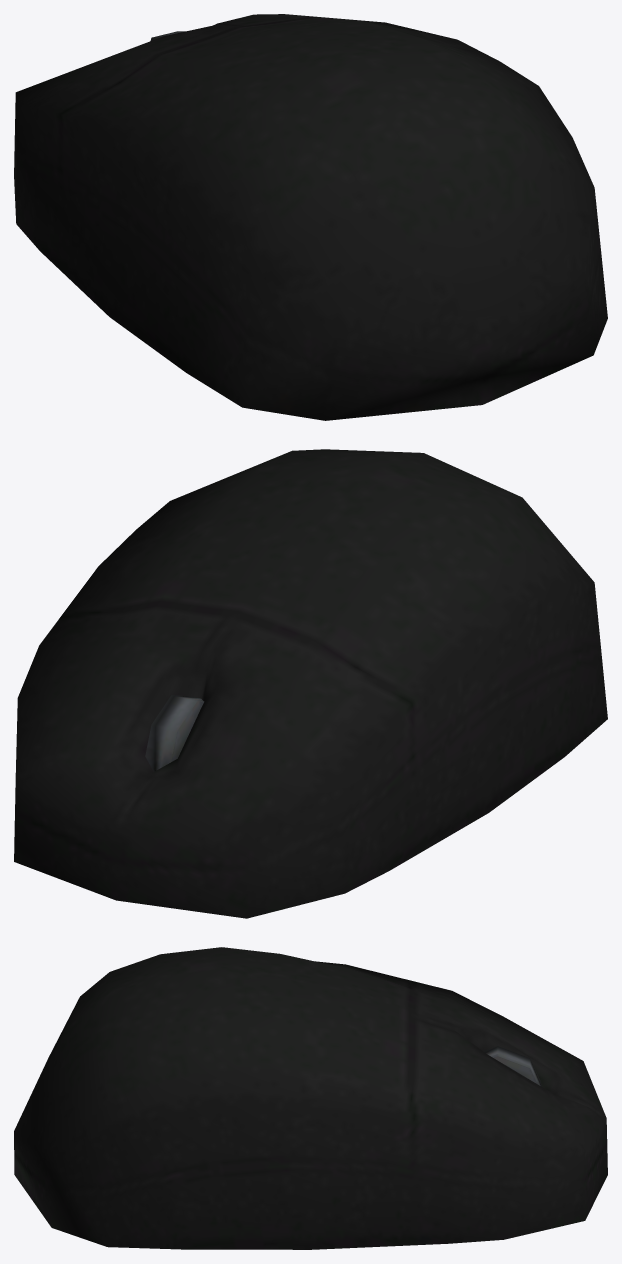
File: computer_mouse.dae
3 views of the same model, one above another, from view 1: azimuth 30°, elevation 25°; view 2: azimuth 150°, elevation 25°; view 3: azimuth 270°, elevation 25° (orthographic). The views are drawn at different scales.
Parts seen in each view (by area): view 1: computer_mouse; view 2: computer_mouse; view 3: computer_mouse.
Boxes of the visible parts, <box> form: computer_mouse: <box>14,14,607,420</box>; computer_mouse: <box>14,449,607,918</box>; computer_mouse: <box>14,947,607,1249</box>.
Size of the model in its own units: 0.07 by 0.0443 by 0.1171.
